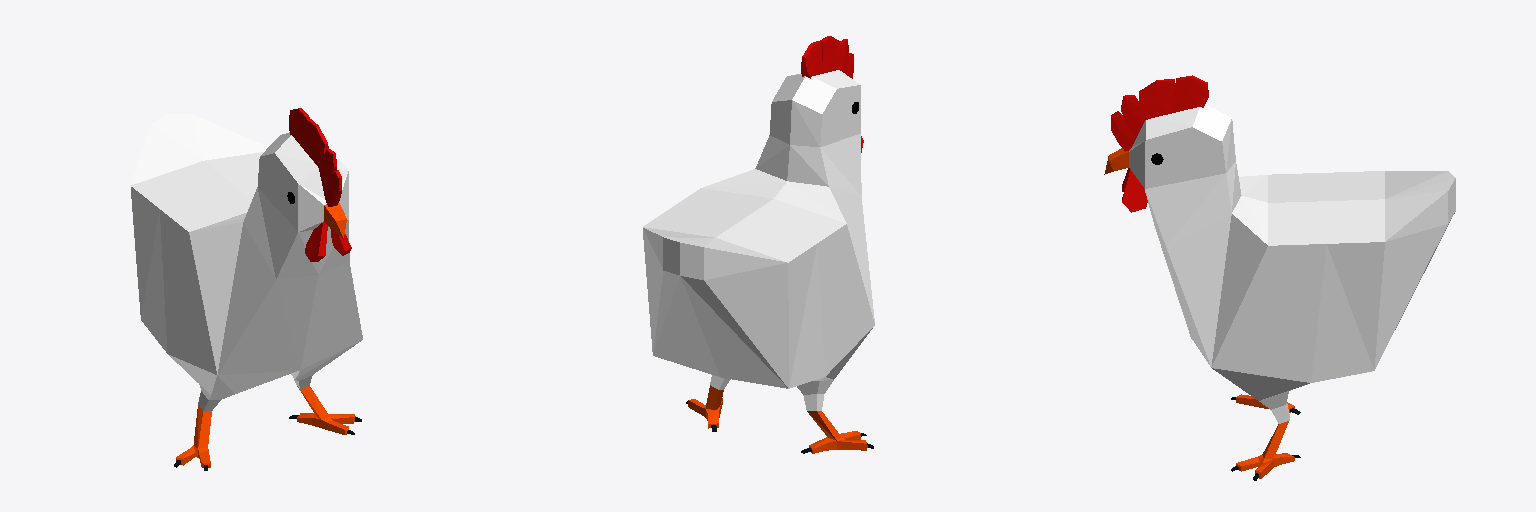
The model's file is Chicken.obj.
3 views of the same model, side by side, from view 1: azimuth 30°, elevation 25°; view 2: azimuth 150°, elevation 25°; view 3: azimuth 270°, elevation 25° (orthographic).
Parts seen in each view (by area): view 1: Cube.035_Cube.034; view 2: Cube.035_Cube.034; view 3: Cube.035_Cube.034.
Boxes of the visible parts, box(x1,y1,x2,y2) form: Cube.035_Cube.034: box(131, 108, 362, 470); Cube.035_Cube.034: box(643, 36, 874, 453); Cube.035_Cube.034: box(1104, 75, 1455, 480).
Bounding box in the file's own units: 1.37 × 2.51 × 2.22.